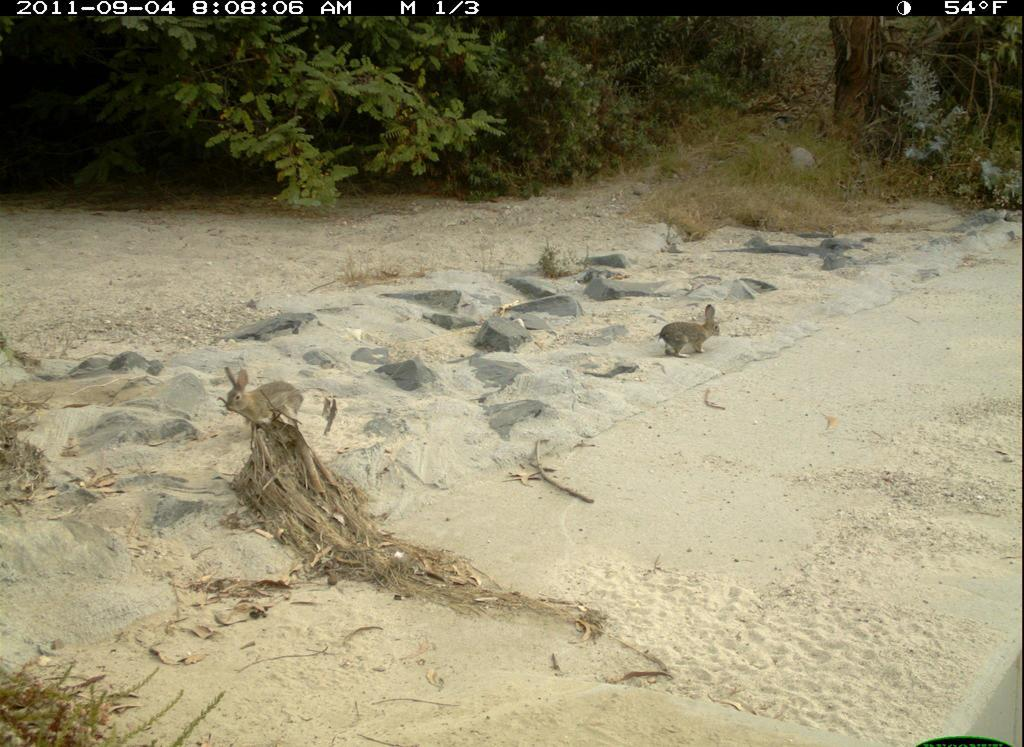rabbit: (217, 362, 311, 433), (649, 303, 727, 364)
